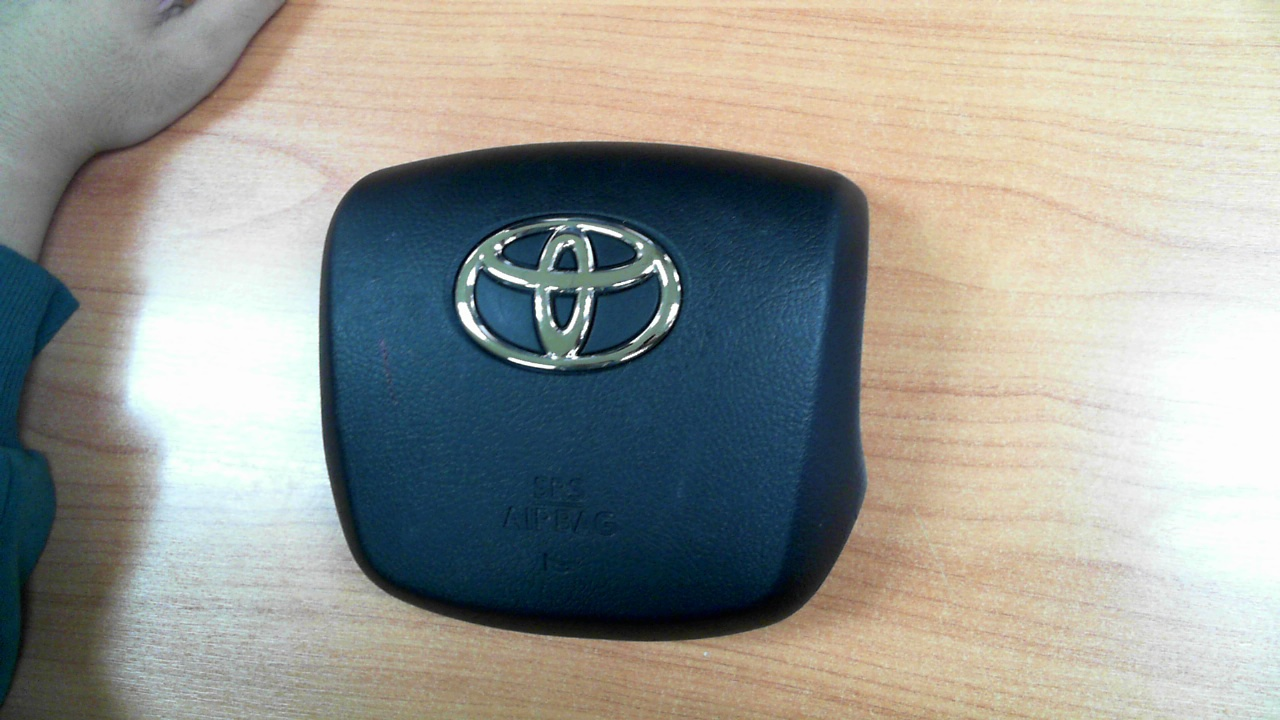Airbag: (317, 141, 871, 644)
Toyota: (454, 217, 682, 371)
